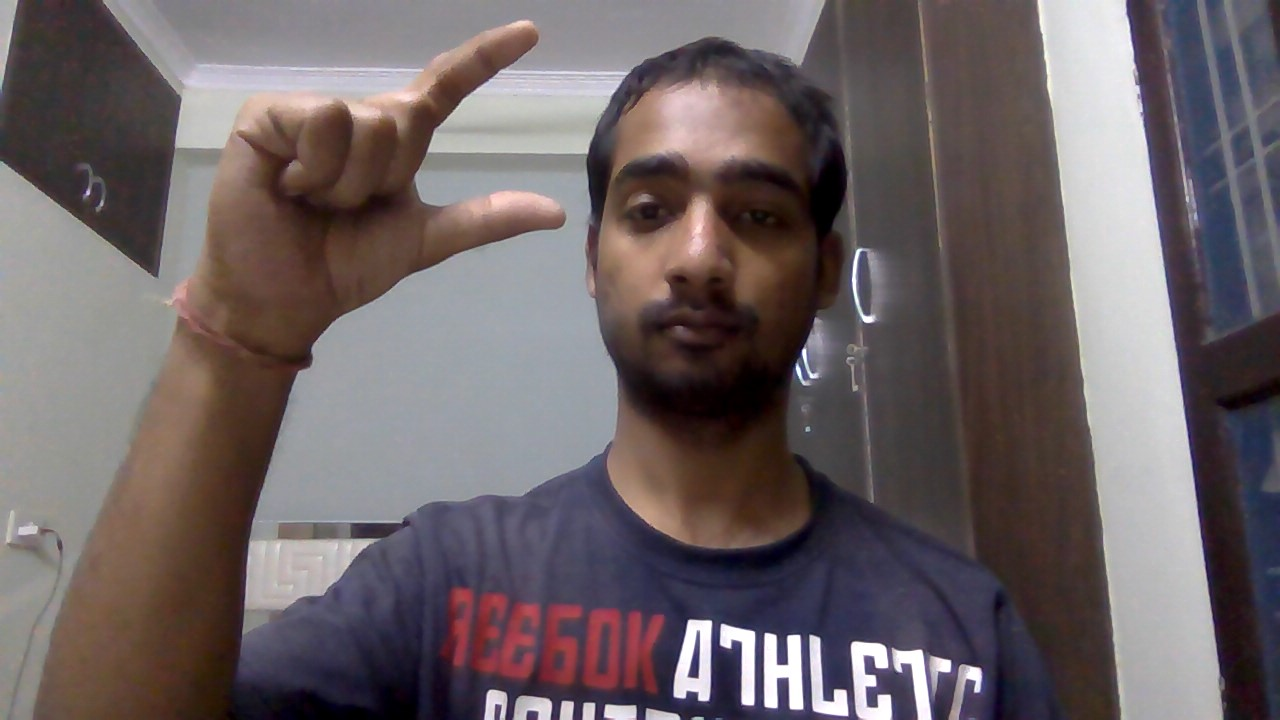Paste: (192, 15, 581, 359)
